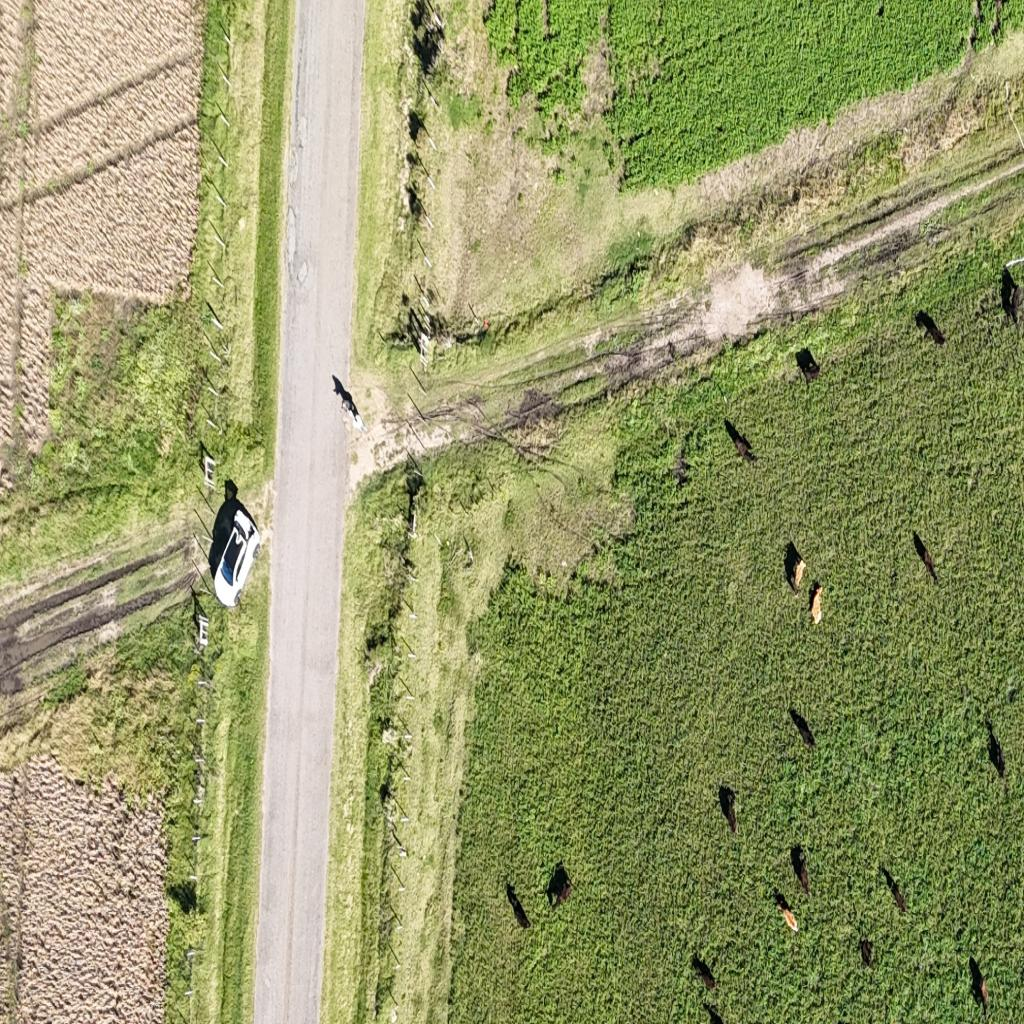cow: (996, 263, 1022, 327), (724, 420, 757, 464), (546, 862, 574, 910), (913, 532, 938, 584), (789, 706, 817, 750), (506, 882, 531, 931), (774, 888, 800, 934), (986, 719, 1006, 778), (916, 310, 947, 348), (884, 866, 908, 914), (968, 957, 988, 1013), (784, 542, 805, 594), (791, 843, 811, 895), (795, 347, 822, 385), (719, 784, 738, 835), (669, 446, 691, 490), (692, 951, 716, 990), (810, 578, 826, 626), (993, 0, 1008, 38), (705, 1002, 725, 1024), (860, 937, 874, 967), (972, 0, 984, 32), (989, 18, 1000, 45), (666, 340, 676, 364), (969, 24, 978, 50), (836, 1016, 854, 1024), (878, 1, 885, 18)
